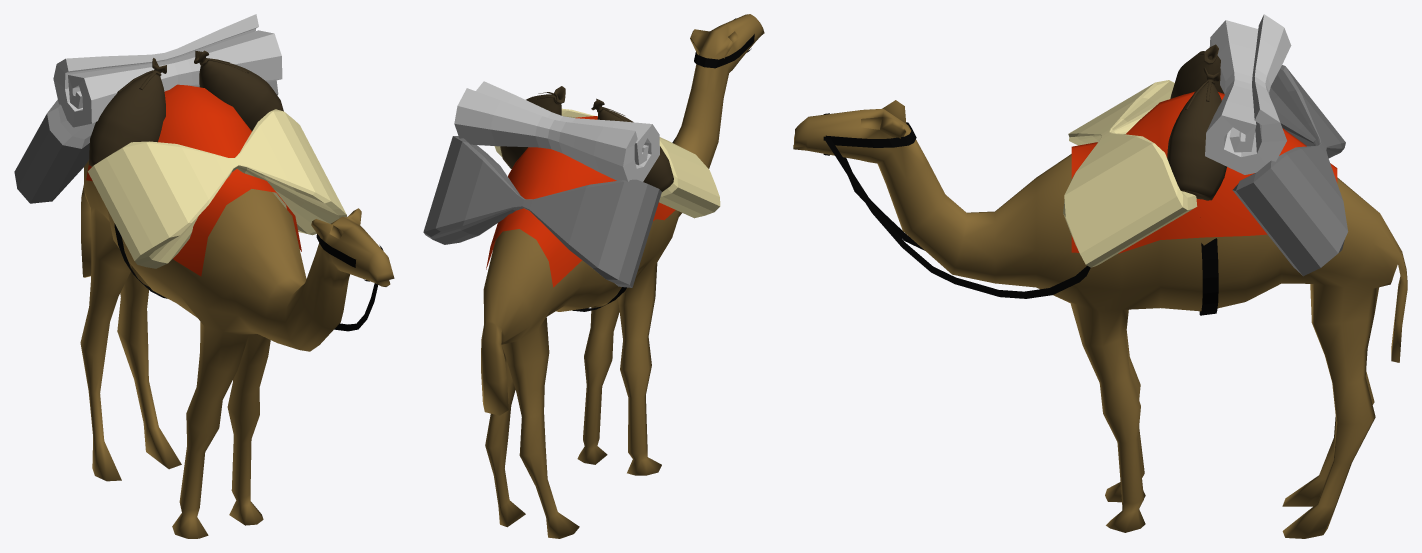
File: Caravan.glb
3 views of the same model, side by side, from view 1: azimuth 30°, elevation 25°; view 2: azimuth 150°, elevation 25°; view 3: azimuth 270°, elevation 25° (orthographic). The views are drawn at different scales.
Parts seen in each view (by area): view 1: Caravan; view 2: Caravan; view 3: Caravan.
Part boxes in pixels (bbox=[...]): Caravan: bbox=[14, 14, 394, 538]; Caravan: bbox=[423, 14, 764, 538]; Caravan: bbox=[793, 14, 1407, 538].
Bounding box in the file's own units: 1.11 × 2.1 × 2.52.
